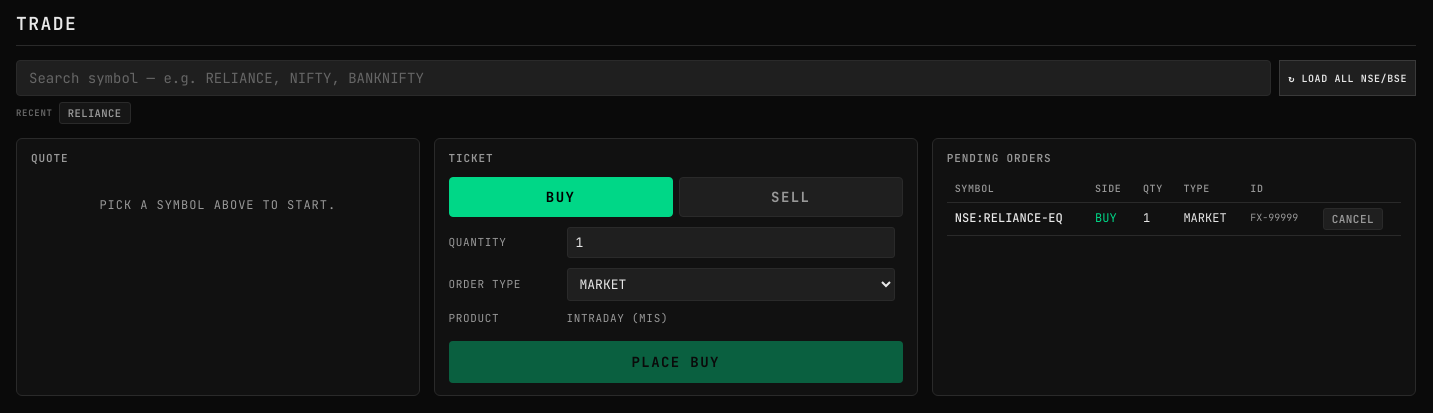
Test: Trade page › surfaces an info banner when the broker rejects the cancel (order already gone)
Click the button with test id "cancel-FX-99999": (1353, 218) [1323,208,1383,230]
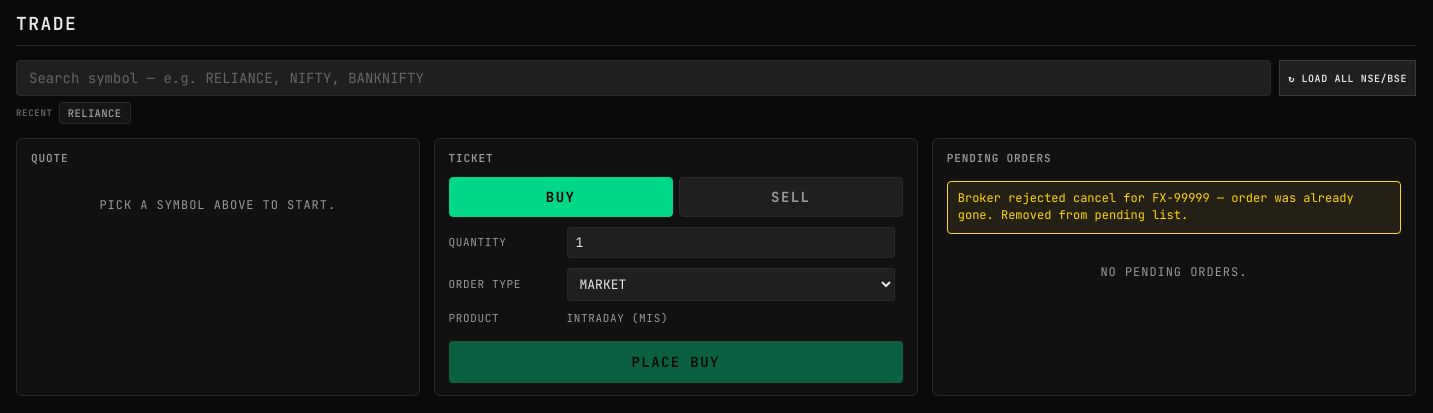
Expected: the text with test id "cancel-result" shows "already gone", [958,190,1354,223]
Expected: the button with test id "cancel-FX-99999" is gone
